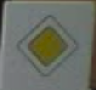mainroad: (18, 15, 80, 77)
